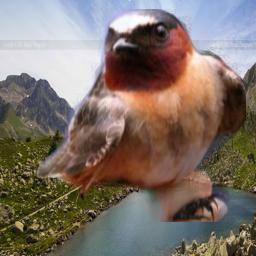Swallow: (37, 9, 246, 222)
